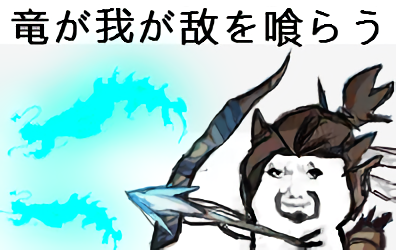dragon: (267, 163, 326, 210)
